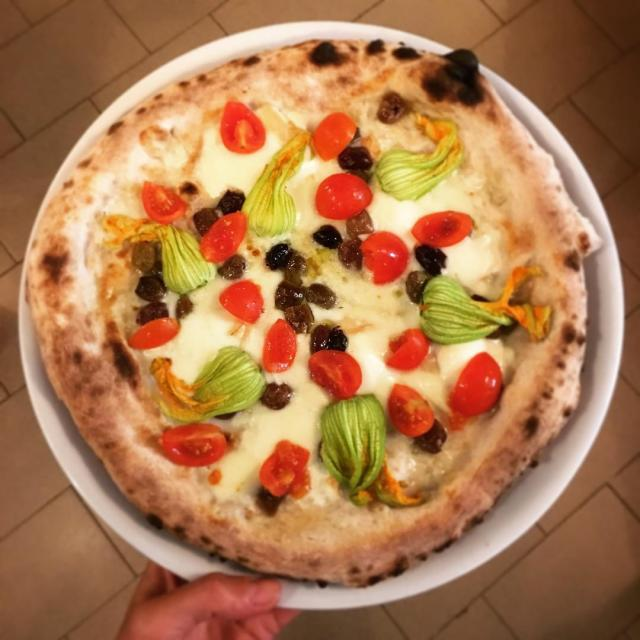black_olives: (126, 272, 170, 304), (415, 244, 448, 280), (312, 220, 344, 252), (215, 186, 247, 217), (263, 238, 289, 272), (327, 323, 351, 357)
green_olives: (276, 250, 334, 332), (134, 300, 196, 325), (124, 238, 162, 272), (374, 89, 409, 123), (340, 144, 372, 178), (258, 380, 289, 412), (417, 424, 448, 456), (340, 212, 375, 238), (336, 237, 362, 271), (188, 204, 218, 233), (303, 321, 330, 353), (400, 268, 425, 301), (256, 490, 287, 516), (216, 258, 249, 280)
pizza: (25, 39, 595, 588)
tomatoes: (446, 352, 505, 426), (156, 415, 233, 467), (254, 438, 314, 498), (211, 99, 271, 157), (304, 346, 364, 401), (358, 231, 414, 289), (313, 172, 374, 223), (388, 376, 435, 441), (406, 209, 478, 247), (196, 210, 246, 264), (135, 174, 186, 226), (219, 278, 267, 329), (311, 110, 359, 159), (387, 324, 432, 376), (120, 317, 188, 350), (263, 315, 301, 374)
